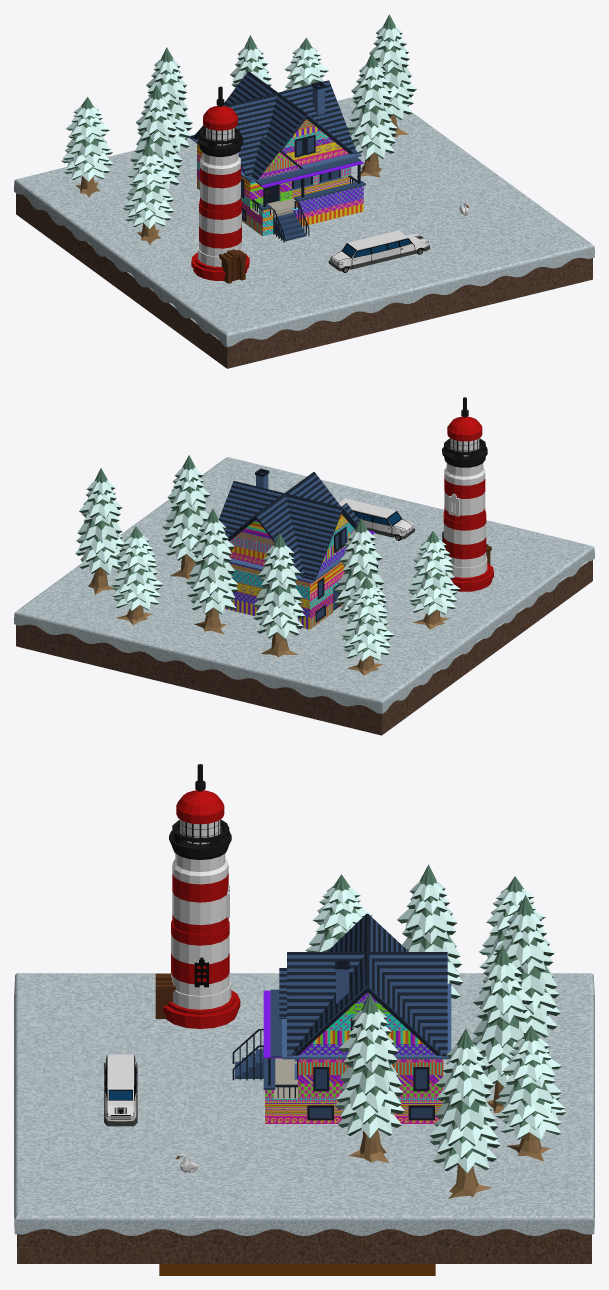
3 renders of one model, top to bottom at view 1: azimuth 30°, elevation 25°; view 2: azimuth 150°, elevation 25°; view 3: azimuth 270°, elevation 25°, orthographic. The views are drawn at different scales.
Visible parts, largest first — view 1: Cube.003, Cube.676, OBJRANDOM_LIGHTHOUSE, VEHICLES_LIMOUSINE; view 2: Cube.003, Cube.676, OBJRANDOM_LIGHTHOUSE, VEHICLES_LIMOUSINE; view 3: Cube.003, Cube.676, OBJRANDOM_LIGHTHOUSE, UNDERGROUND_ART_PIECE_VAN_GOGH, VEHICLES_LIMOUSINE.
Boxes of the visible parts, <box> form: Cube.003: <box>14,14,594,368</box>; Cube.676: <box>189,71,365,242</box>; OBJRANDOM_LIGHTHOUSE: <box>191,86,249,283</box>; VEHICLES_LIMOUSINE: <box>328,230,429,272</box>; Cube.003: <box>14,455,594,735</box>; Cube.676: <box>219,468,377,629</box>; OBJRANDOM_LIGHTHOUSE: <box>442,397,493,591</box>; VEHICLES_LIMOUSINE: <box>338,498,415,540</box>; Cube.003: <box>14,864,594,1263</box>; Cube.676: <box>232,913,451,1123</box>; OBJRANDOM_LIGHTHOUSE: <box>155,764,240,1028</box>; UNDERGROUND_ART_PIECE_VAN_GOGH: <box>159,1264,435,1275</box>; VEHICLES_LIMOUSINE: <box>104,1054,137,1126</box>.
Size of the model in its own units: 4040 by 2476 by 4040.
38 materials, 8 textured.
